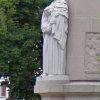Statue: (32, 3, 76, 81)
